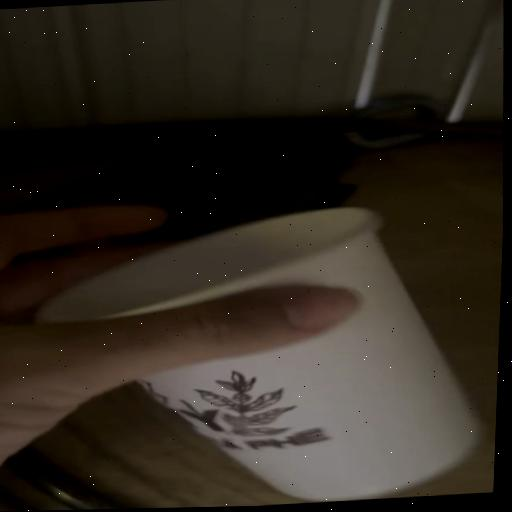Ly_giay: (37, 207, 479, 499)
